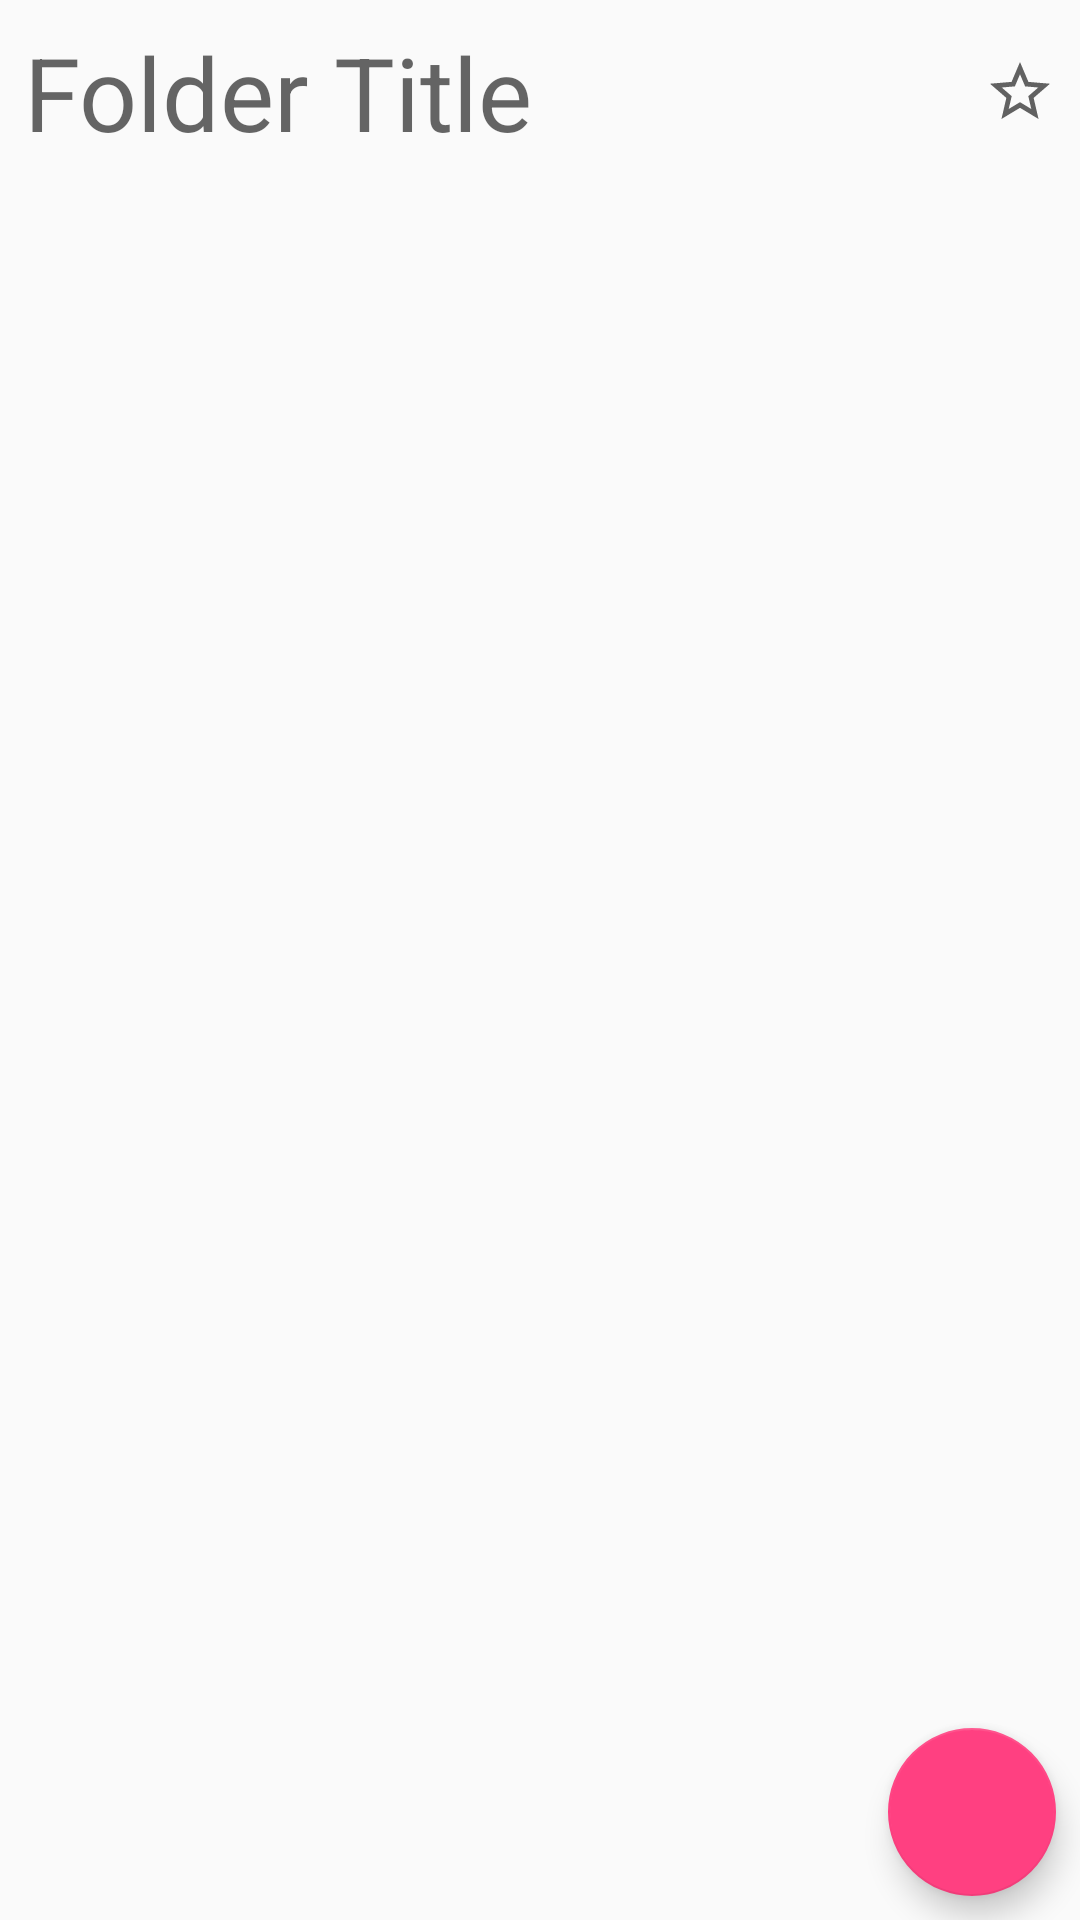

Point at icon controls on the screen. Image size 1080w x 1920h, points as point (x, y).
favorite style: point (1020, 90)
